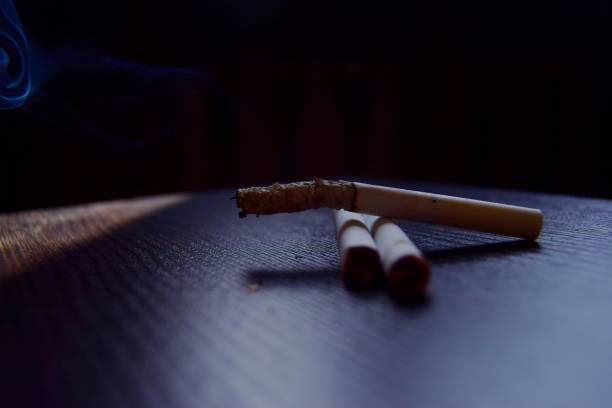cigarette: (233, 175, 546, 242), (365, 212, 434, 300), (333, 209, 383, 292)
